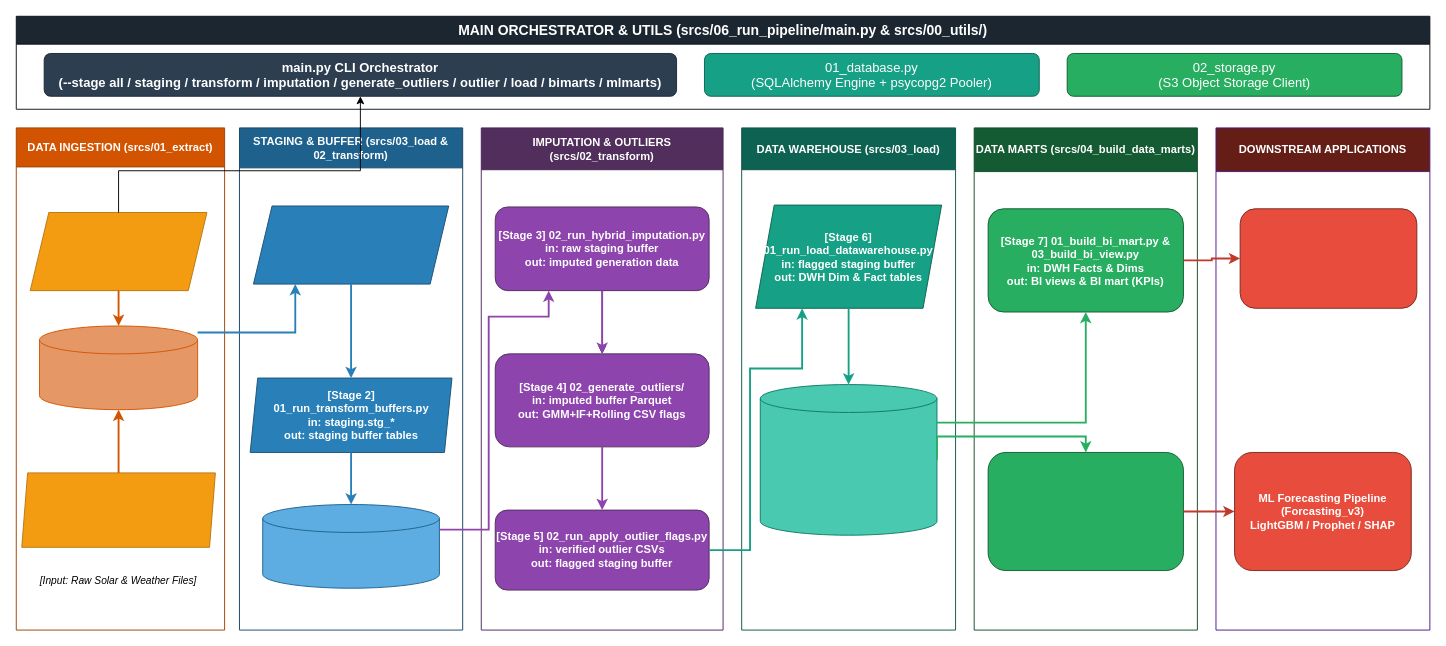
Some shapes in this 1446 by 646 pixel diagram are drawn without their labels. Each missing label, with the centre of its shape:
01_download_kaggle_raw.py in: Kaggle API out: Solar PV CSVs: point (118, 251)
02_download_open_meteo_raw.py in: Open-Meteo REST API out: Weather JSON/CSV: point (118, 509)
[Stage 1] 01_run_load_staging.py in: S3 Buckets out: staging.stg_*: point (350, 244)
[Stage 8] 02_build_ml_mart.py in: DWH Facts & Dims out: Denormalized ML Dataset: point (1085, 511)
PostgreSQL Staging DB (staging.fact_* & stg_*): point (350, 546)
Supabase PostgreSQL DWH Galaxy Schema: 5 Dims + 2 Facts: point (848, 459)
Supabase S3 Storage (Raw Data Buckets): point (118, 367)
Tableau Dashboards (Executive & Operational Views): point (1328, 258)
